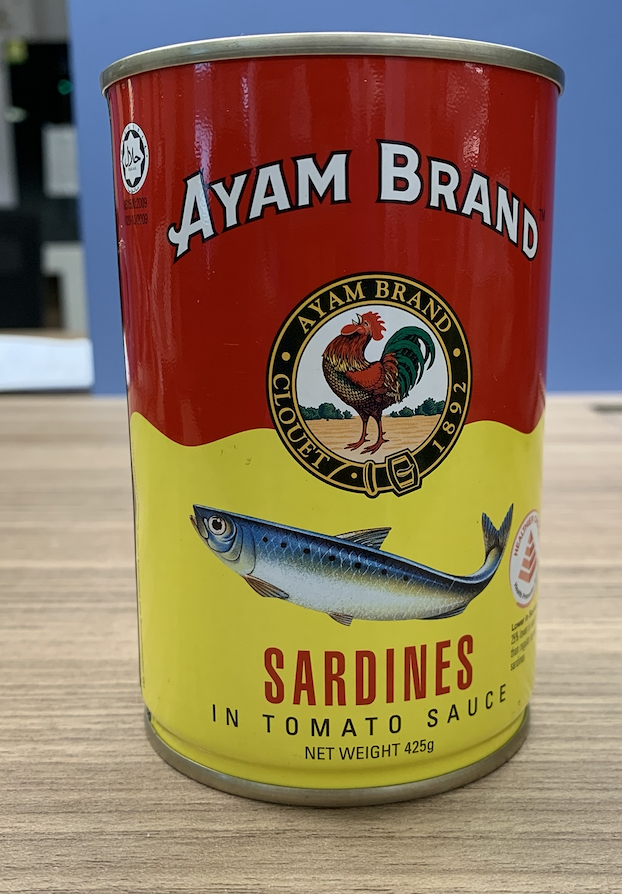halal: (123, 134, 143, 180)
